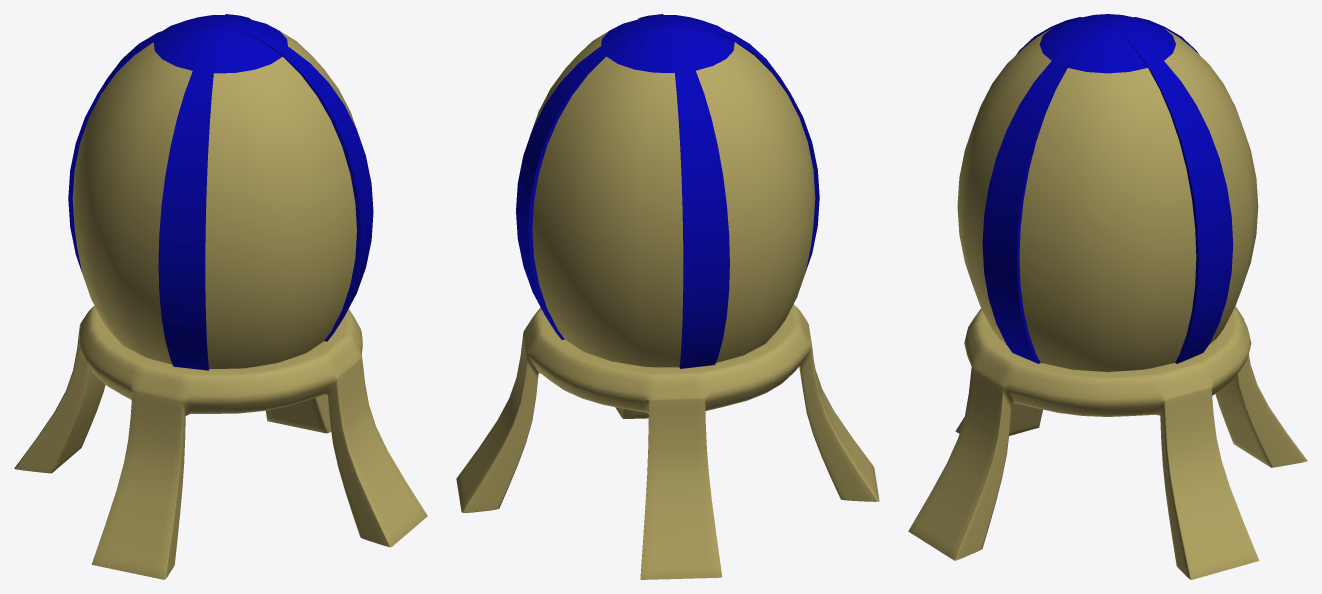
File: ArtifactBlue.fbx
3 views of the same model, side by side, from view 1: azimuth 30°, elevation 25°; view 2: azimuth 150°, elevation 25°; view 3: azimuth 270°, elevation 25° (orthographic).
Visible parts, largest first — view 1: ArtifactGold1; view 2: ArtifactGold1; view 3: ArtifactGold1.
Part boxes in pixels (x1,y1,x2,y2): ArtifactGold1: [14, 14, 427, 579]; ArtifactGold1: [456, 14, 879, 579]; ArtifactGold1: [908, 14, 1307, 579].
Size of the model in its own units: 26.5 by 34.65 by 26.57.
